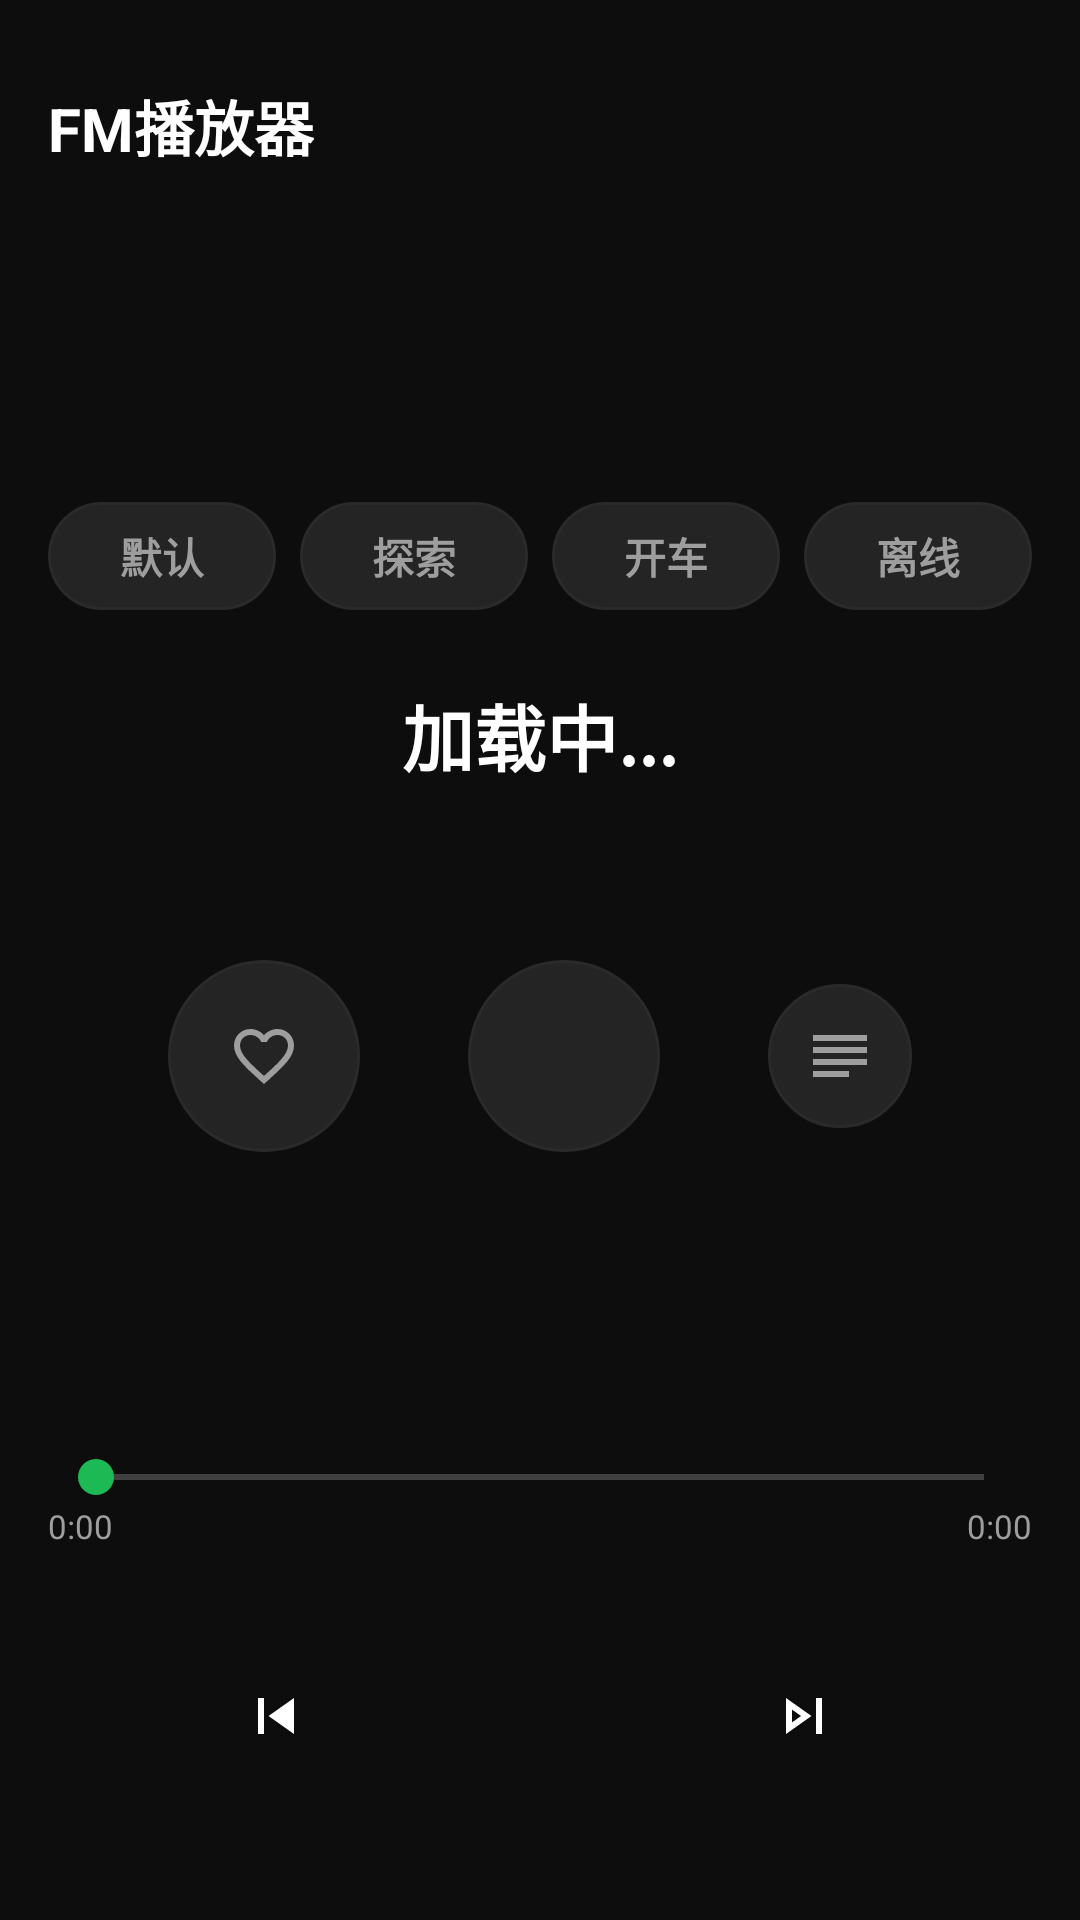

Screen size 1080px x 1920px. Icon name, then its box in pixels as (left=x1, top=y1, right=x2, bottom=y2):
prev: (left=258, top=1698, right=294, bottom=1734)
喜欢: (left=168, top=960, right=360, bottom=1152)
播放列表: (left=768, top=984, right=912, bottom=1128)
